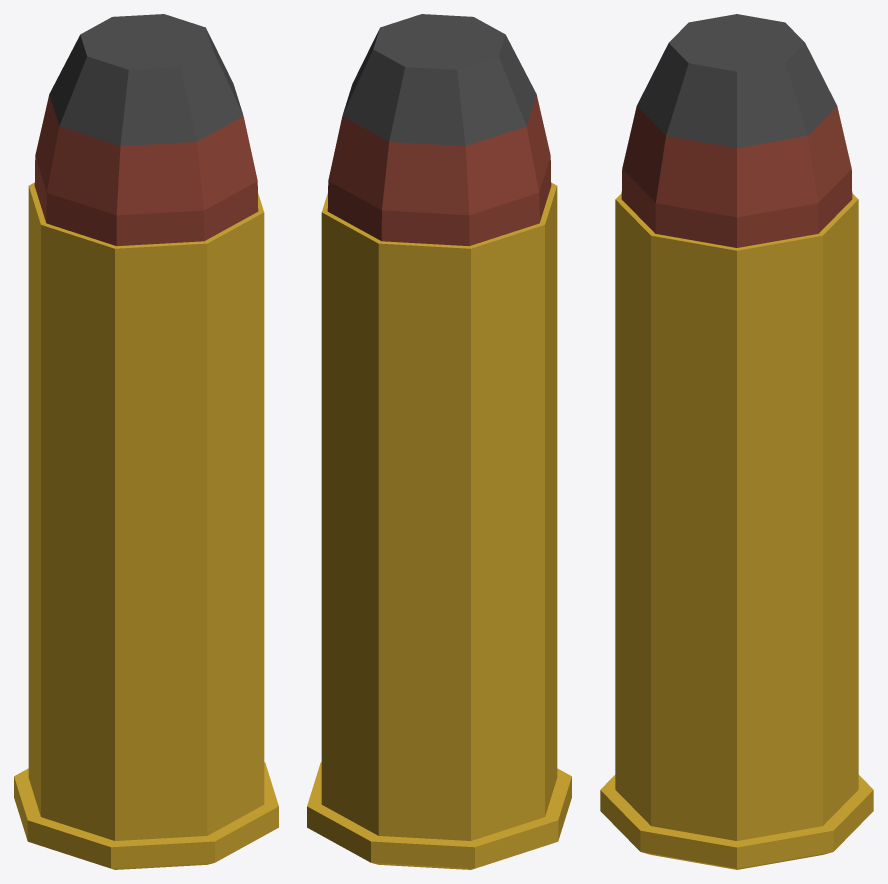
Rendered from 44 Magnum.glb.
3 views of the same model, side by side, from view 1: azimuth 30°, elevation 25°; view 2: azimuth 150°, elevation 25°; view 3: azimuth 270°, elevation 25° (orthographic).
Visible parts, largest first — view 1: 44 Magnum; view 2: 44 Magnum; view 3: 44 Magnum.
Boxes of the visible parts, <box> form: 44 Magnum: <box>14,14,278,869</box>; 44 Magnum: <box>307,14,571,869</box>; 44 Magnum: <box>600,14,873,869</box>.
Bounding box in the file's own units: 0.0131 × 0.0409 × 0.0131.
Materials: 1 (1 with a texture image).
